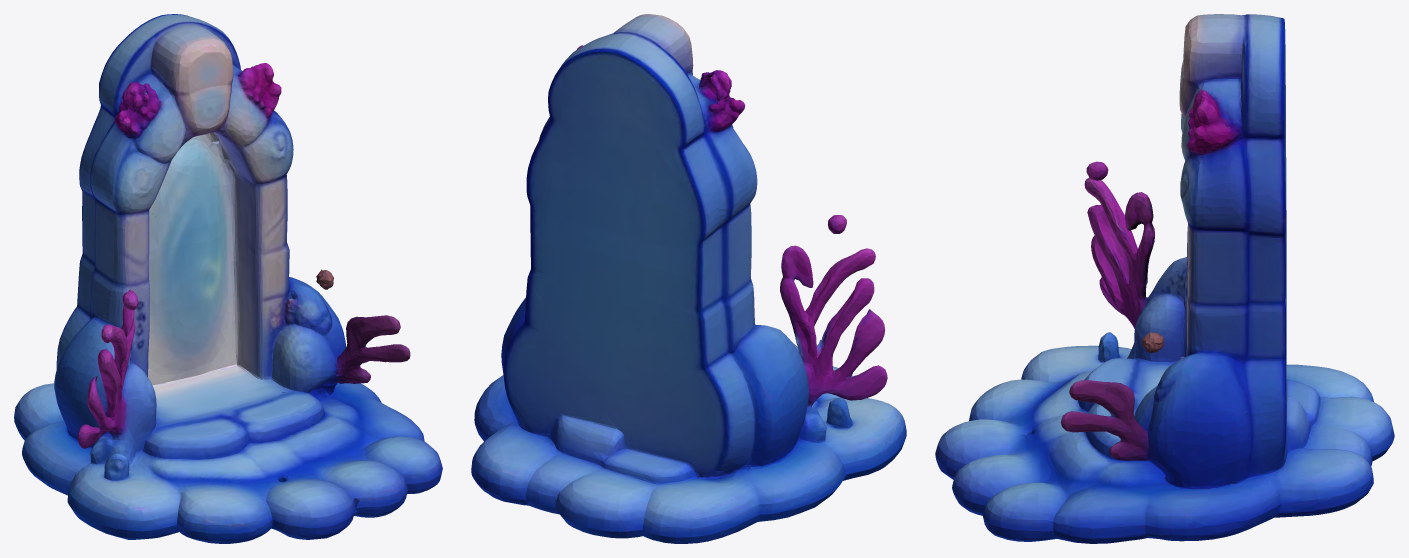
File: portal_water.glb
3 views of the same model, side by side, from view 1: azimuth 30°, elevation 25°; view 2: azimuth 150°, elevation 25°; view 3: azimuth 270°, elevation 25° (orthographic). The views are drawn at different scales.
Parts seen in each view (by area): view 1: world.001; view 2: world.001; view 3: world.001.
Part boxes in pixels (x1,y1,x2,y2): world.001: [14, 14, 442, 543]; world.001: [471, 14, 906, 543]; world.001: [935, 14, 1394, 543].
Bounding box in the file's own units: 0.8369 × 0.9965 × 0.9223.
Materials: 1 (1 with a texture image).
